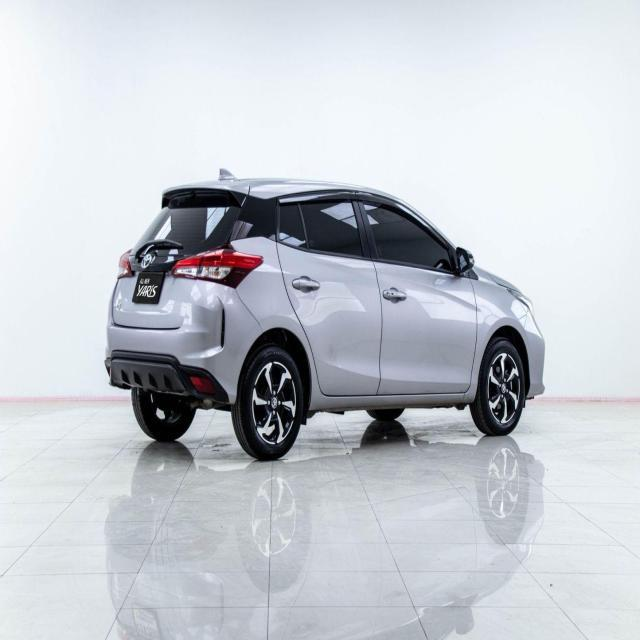Hatchback: (103, 171, 547, 463)
